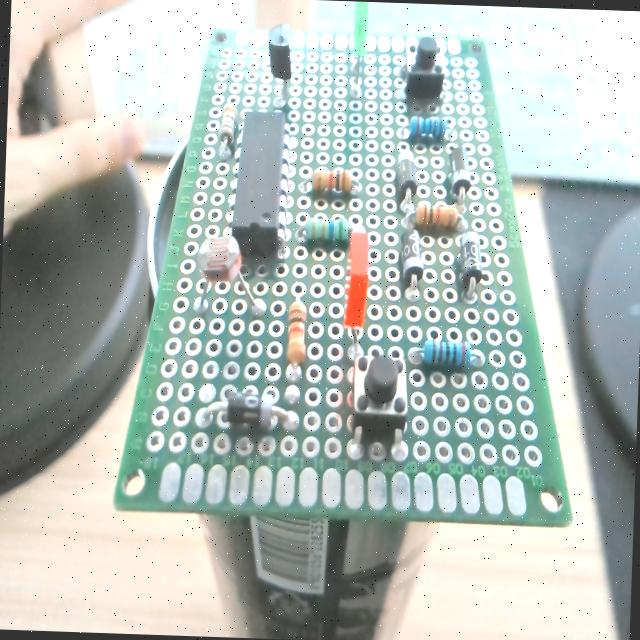IC: (230, 111, 288, 262)
cds: (190, 227, 272, 322)
diode: (202, 390, 299, 433), (398, 227, 424, 296), (455, 230, 483, 294), (446, 145, 472, 203), (395, 154, 418, 206)
led: (338, 226, 373, 350), (348, 1, 370, 97)
resistor: (408, 327, 486, 375), (286, 298, 306, 367), (302, 214, 349, 242), (416, 202, 460, 231), (216, 102, 238, 158), (310, 167, 354, 195), (409, 115, 451, 142)
switch: (350, 348, 410, 438), (402, 36, 447, 104)
transistor: (260, 20, 300, 105)
